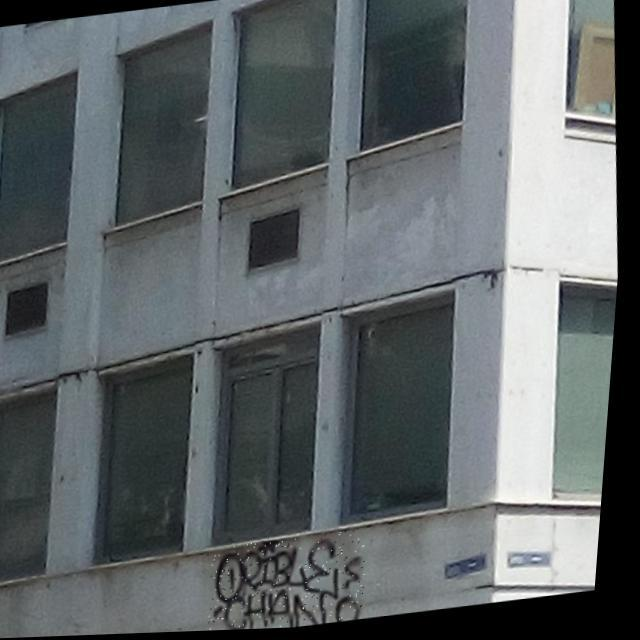-: (210, 531, 380, 633)
